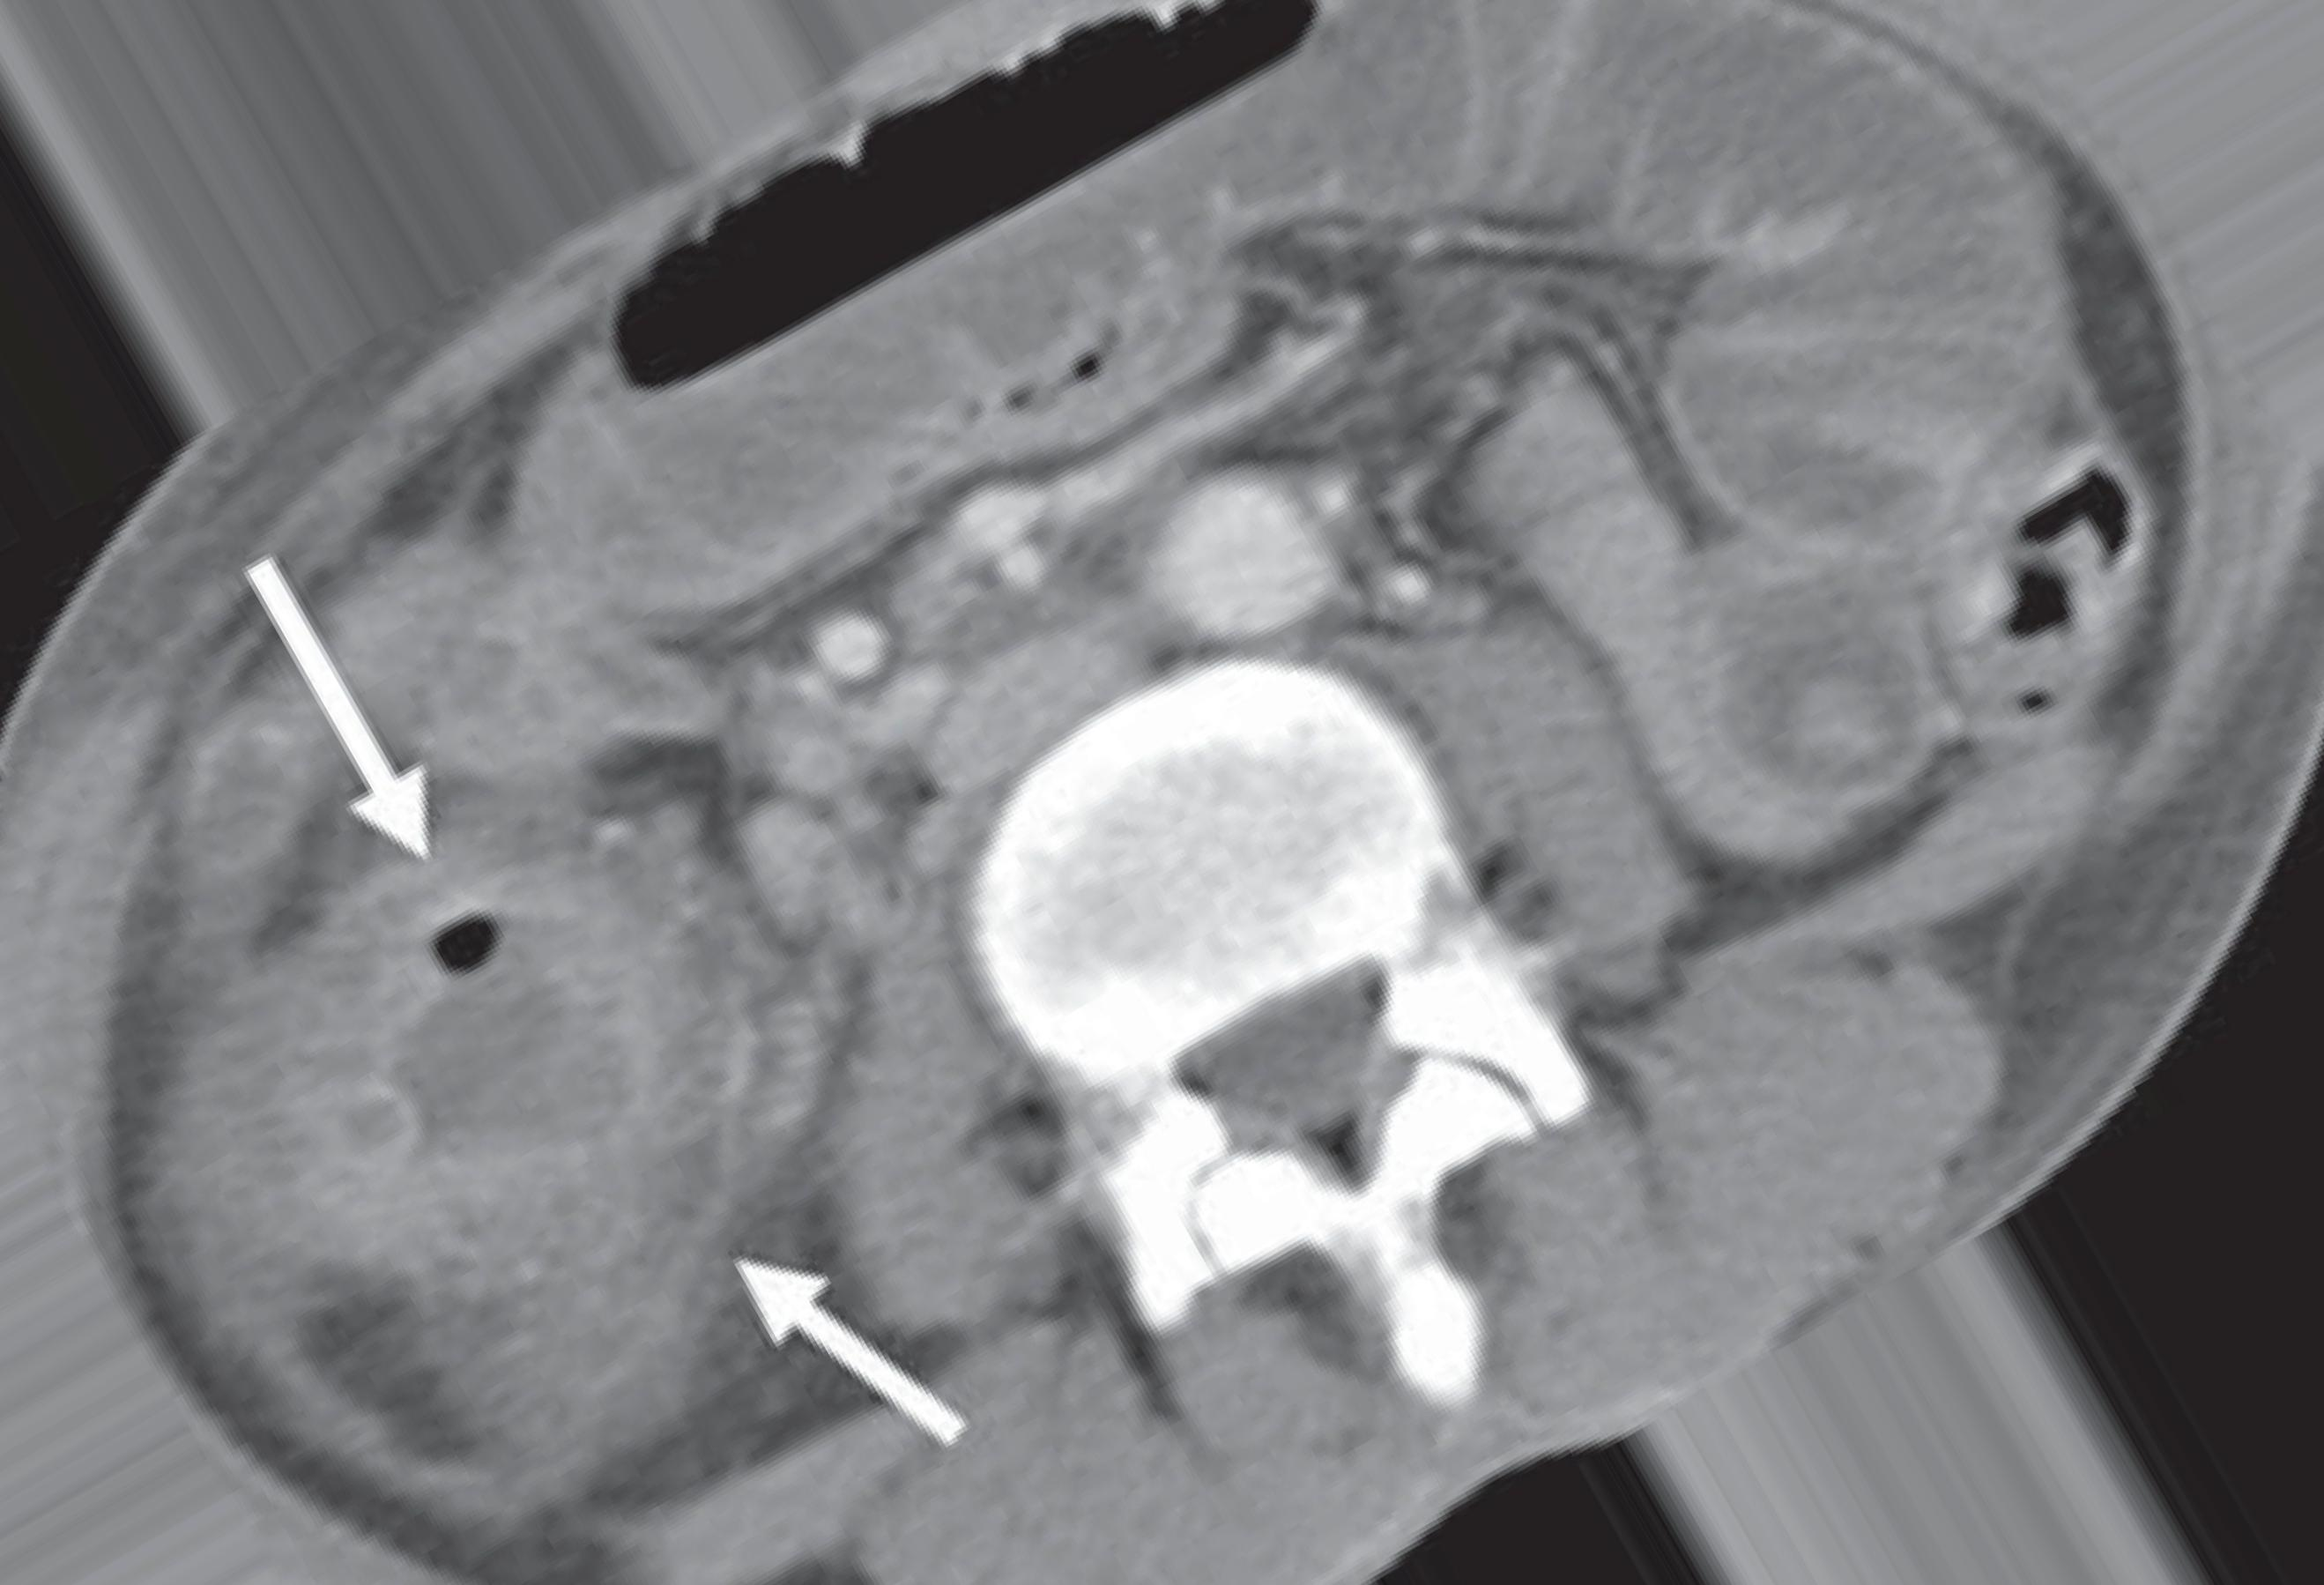anomaly: (357, 979, 689, 1164)
